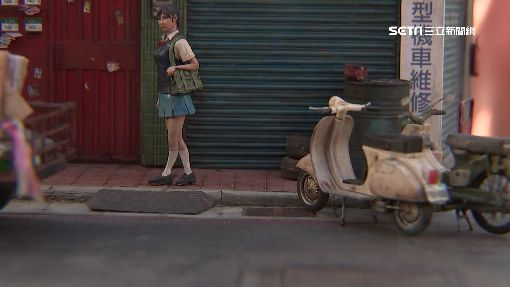people: (152, 4, 201, 186)
